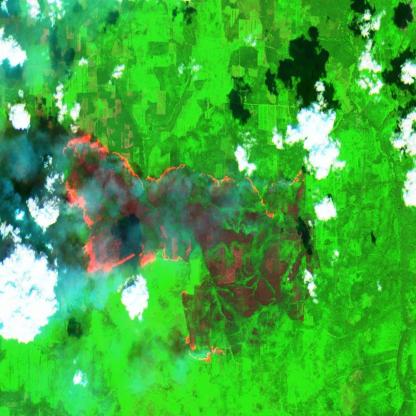fire: (60, 128, 301, 278), (178, 290, 232, 364)
